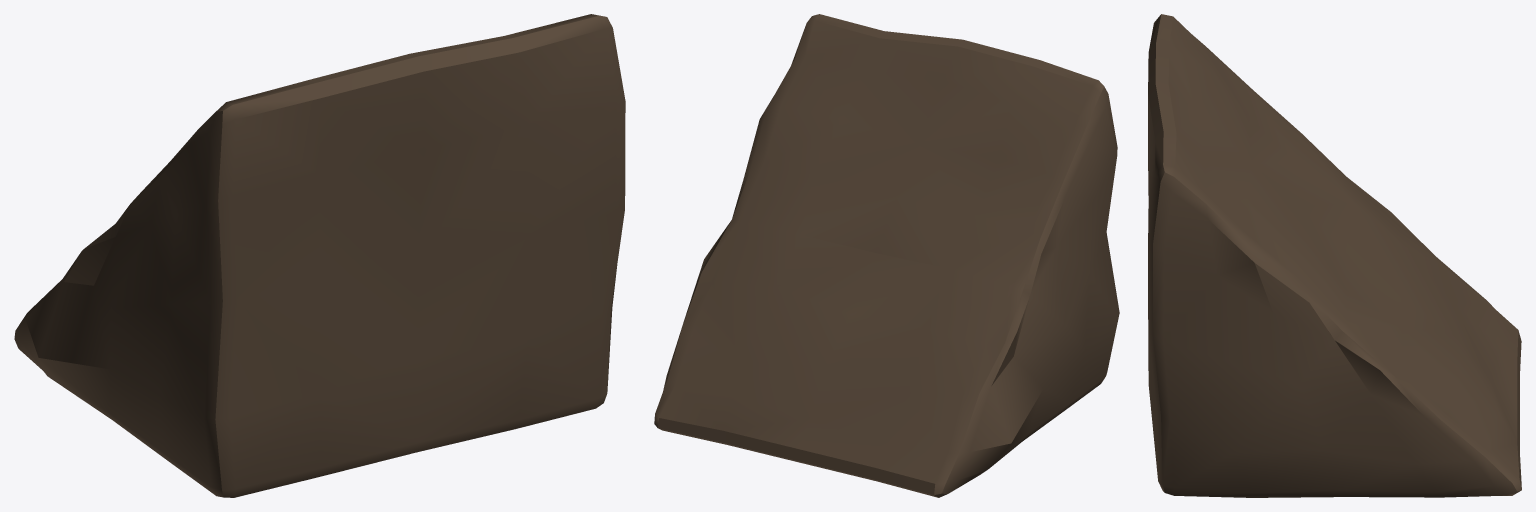
The model's file is earthramp.fbx.
3 views of the same model, side by side, from view 1: azimuth 30°, elevation 25°; view 2: azimuth 150°, elevation 25°; view 3: azimuth 270°, elevation 25° (orthographic). The views are drawn at different scales.
Visible parts, largest first — view 1: earthramp; view 2: earthramp; view 3: earthramp.
Boxes of the visible parts, x1=… form: earthramp: x1=14, y1=14, x2=625, y2=497; earthramp: x1=654, y1=14, x2=1119, y2=497; earthramp: x1=1148, y1=14, x2=1521, y2=497.
Size of the model in its own units: 84.07 by 72.88 by 73.01.
